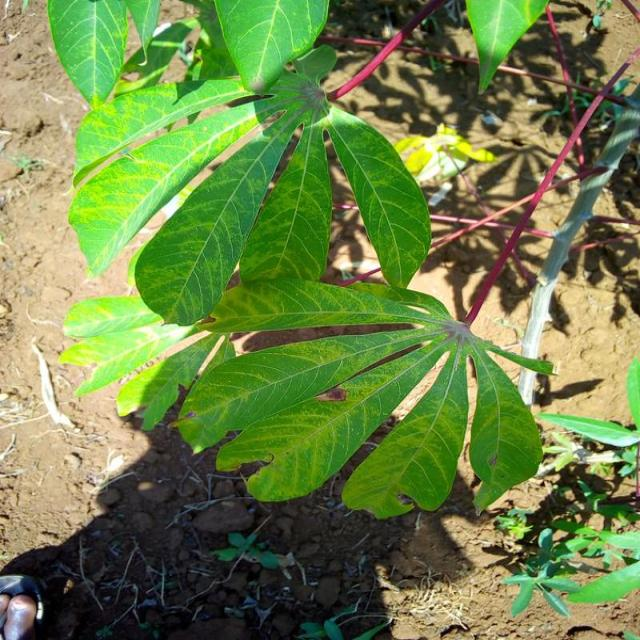cassava leaf: (48, 0, 556, 522), (325, 104, 432, 289), (212, 0, 330, 95), (464, 0, 550, 95)
